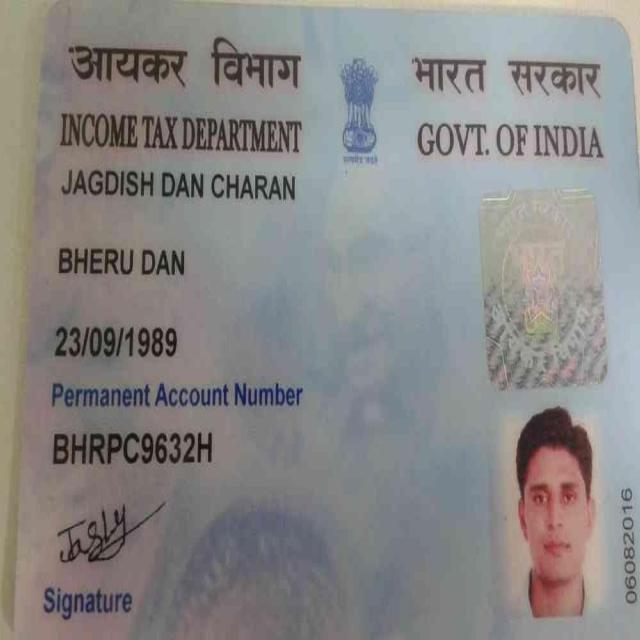pan_card: (39, 3, 633, 640)
